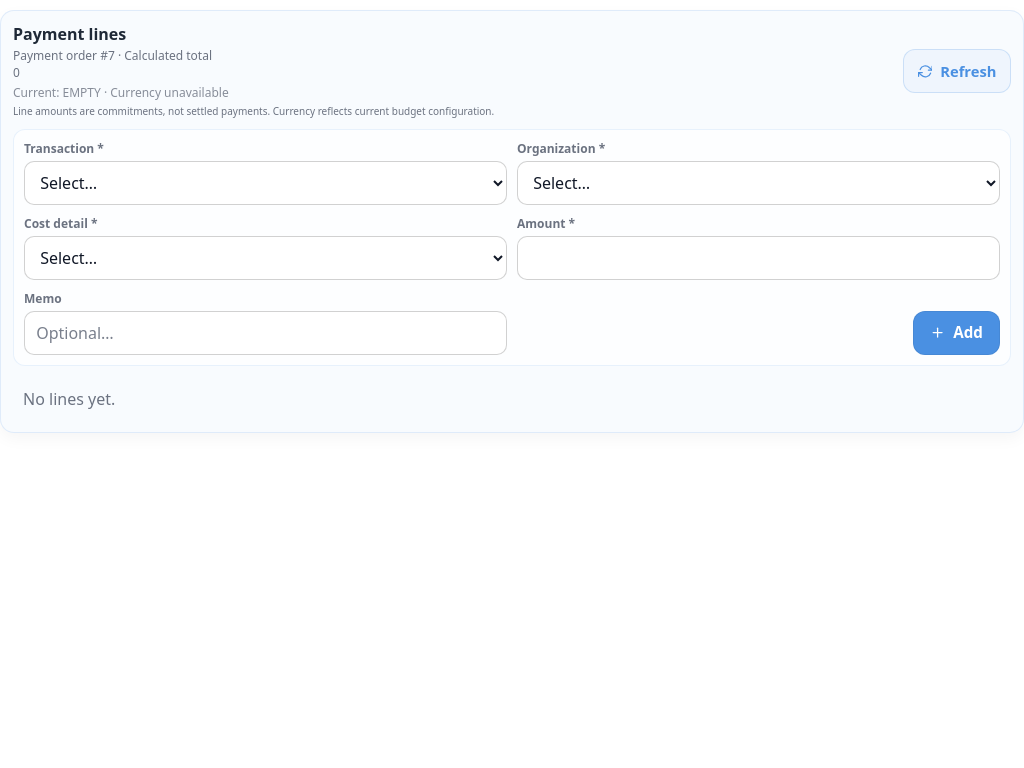
Test: line creation sends exact strings and retains rejected inputs
This screenshot has width=1024, height=768.
Select "TX#2" in the dropdown labelled "Transaction *" at x=266, y=183, box x1=24 y1=161 x2=507 y2=205
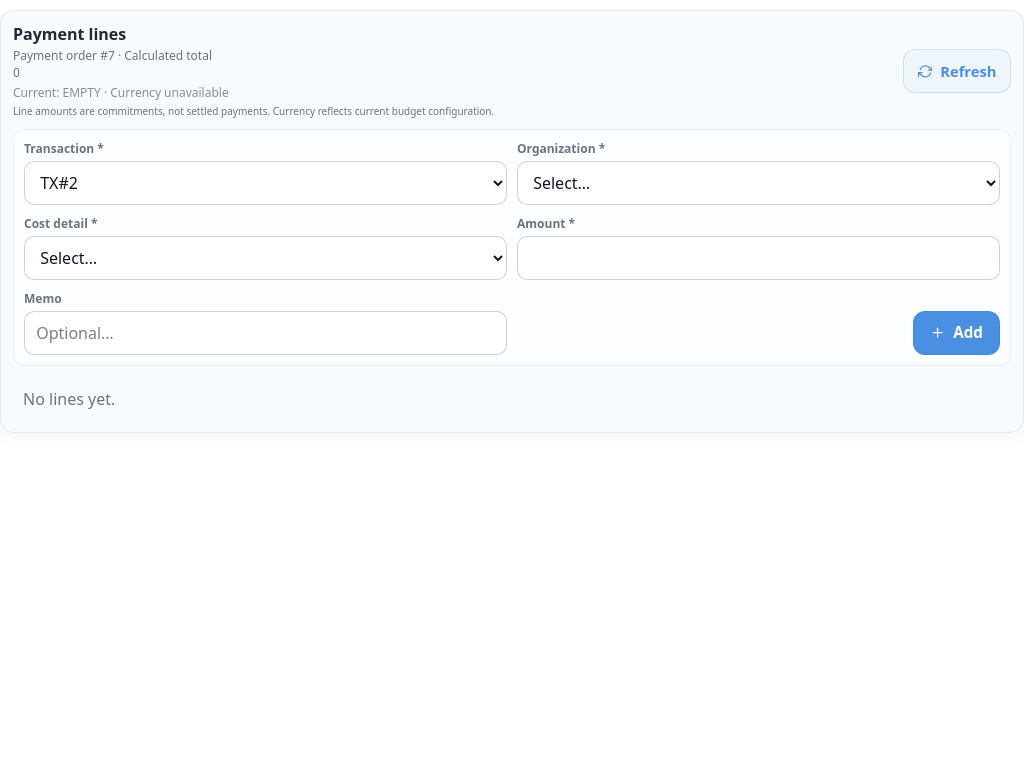
Select "Org" in the dropdown labelled "Organization *" at x=758, y=183, box x1=517 y1=161 x2=1000 y2=205
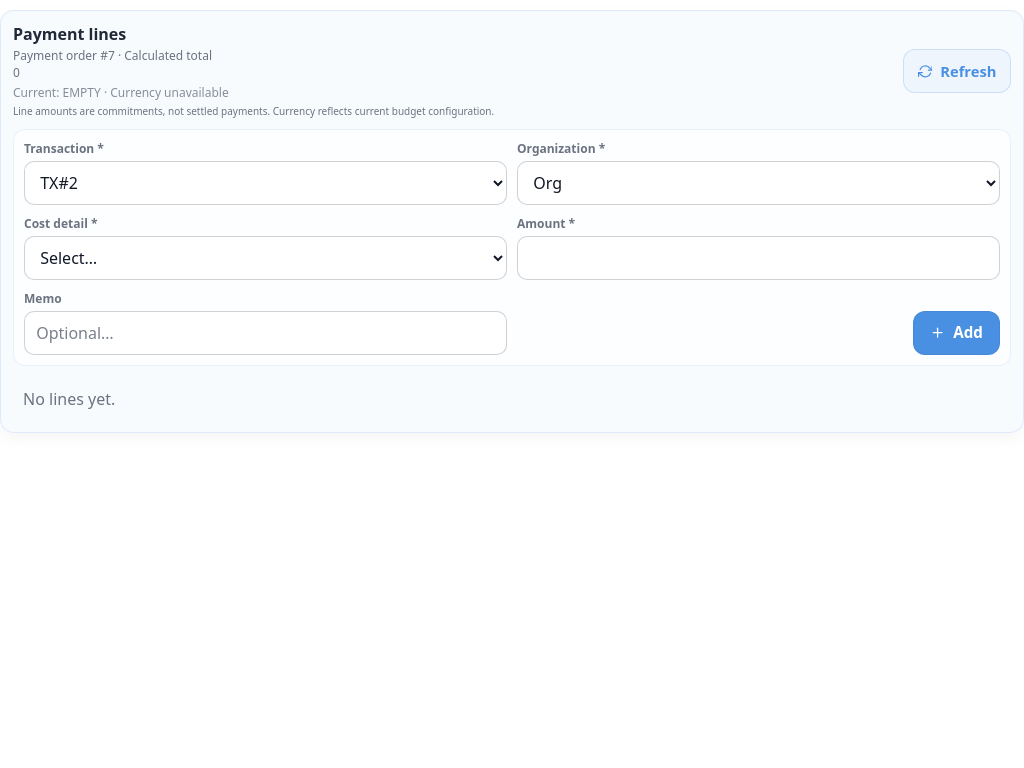
Select "Equipment (CD#4)" in the dropdown labelled "Cost detail *" at x=266, y=258, box x1=24 y1=236 x2=507 y2=280
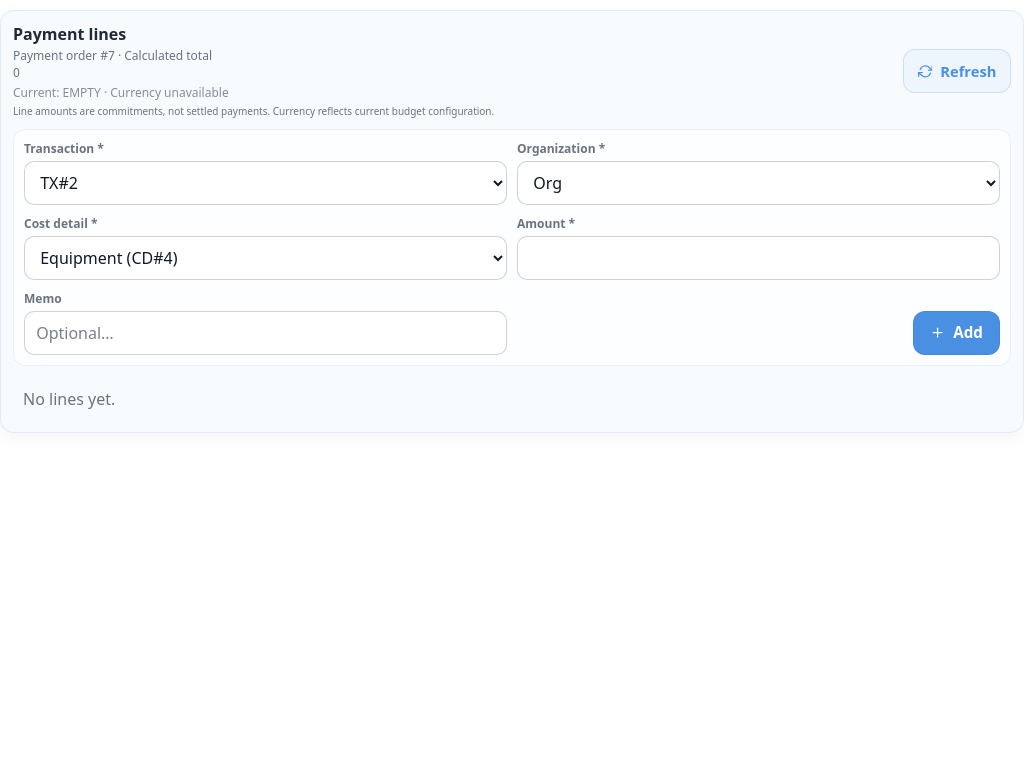
Type "99999999999999.999999" into the number field labelled "Amount *" at x=758, y=258, box x1=517 y1=236 x2=1000 y2=280
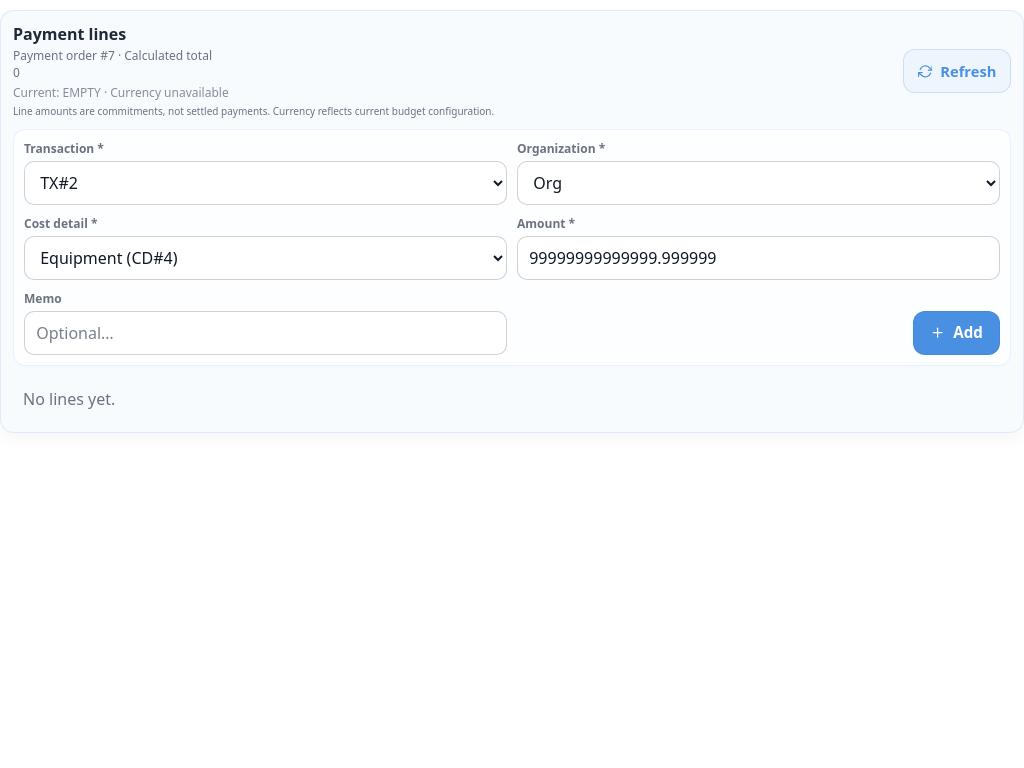
Click the button "Add" at x=957, y=333, box x1=913 y1=311 x2=1000 y2=355
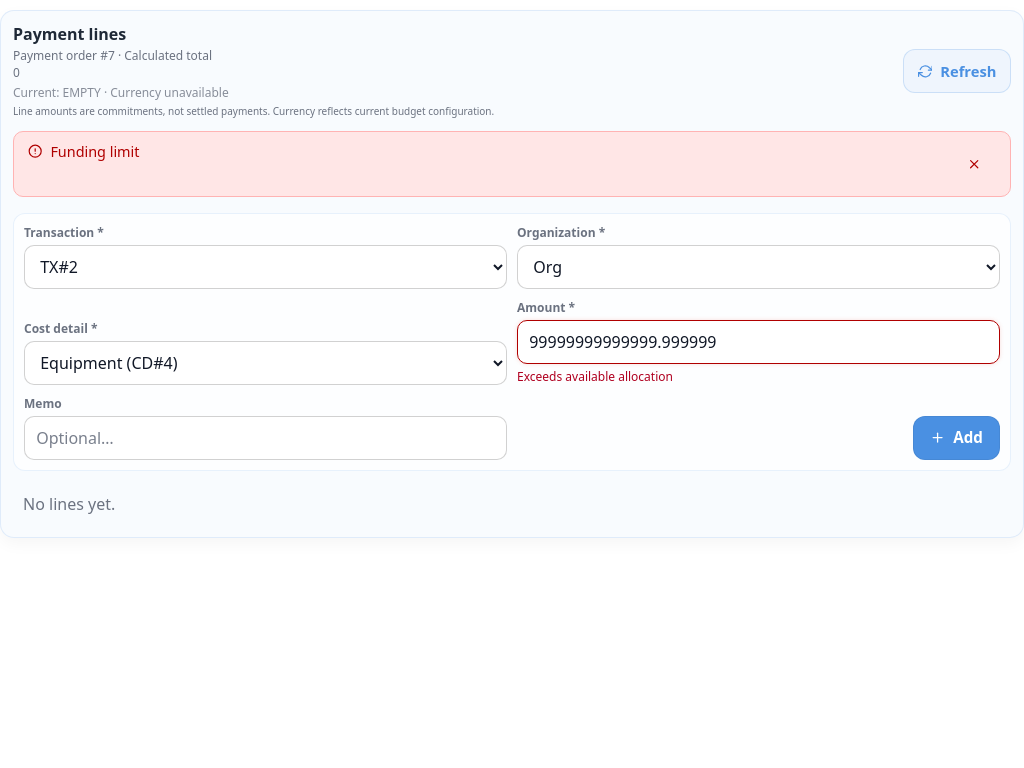
expect the text "Exceeds available allocation" is shown: met, box x1=517 y1=368 x2=673 y2=385
